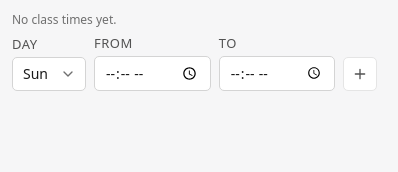
Scenario: ScheduleEditor › rejects an end time that is not after the start
Type "12:00" into the time field labelled "From". click: (152, 74)
box: [94,56,211,91]
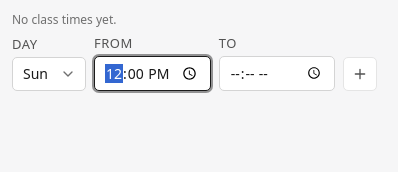
Type "08:00" into the time field labelled "To". click: (277, 74)
box: [219,56,335,91]
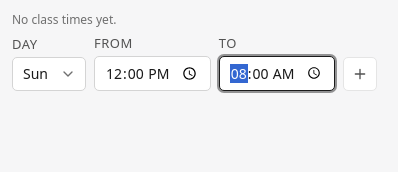
Click the button named "Add slot". click: (360, 74)
box: [343,57,377,91]
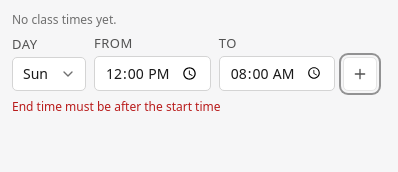
Check: the text "End time must be after the start time" is shown, box [12,98,220,115]
